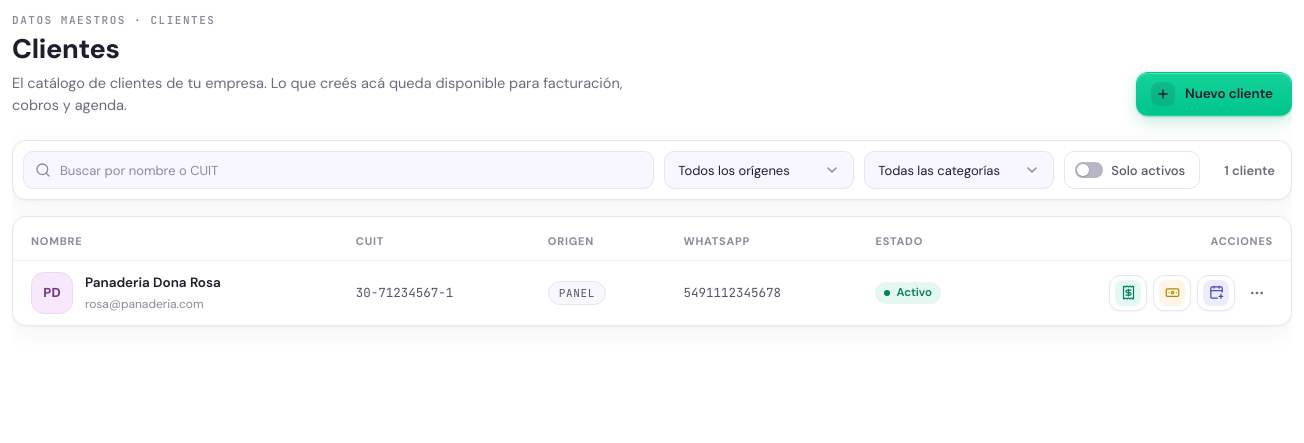
Test: ListadoDeClientes › el menú ⋯ se cierra al hacer clic afuera
Click the button named "Más acciones para". click: (1257, 293)
box: left=1241, top=277, right=1273, bottom=309
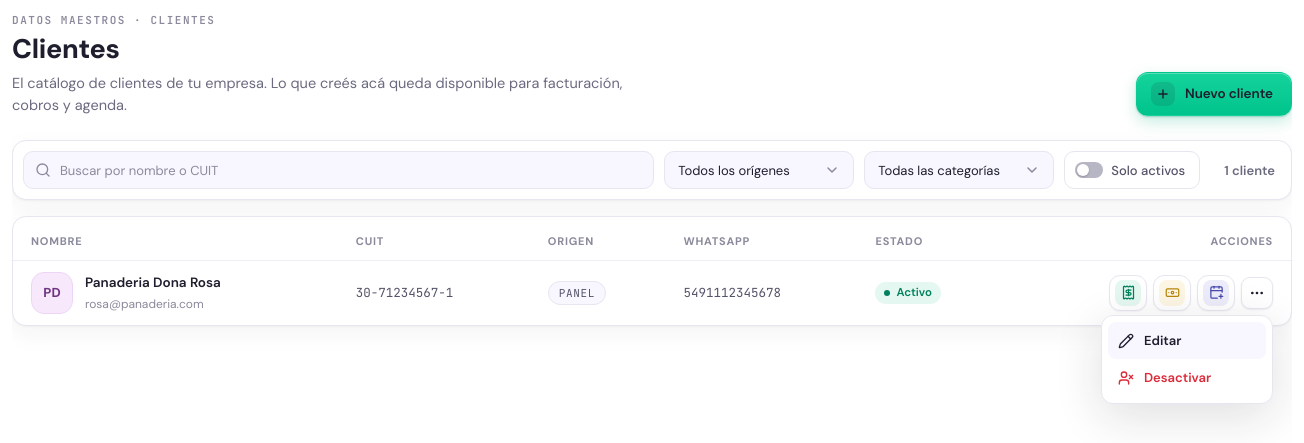
Check: the menu is shown, box left=1101, top=315, right=1273, bottom=404
Press the mouse on the element that starts with "Datos maestros · Clientes" at (652, 169), box left=12, top=12, right=1292, bottom=326
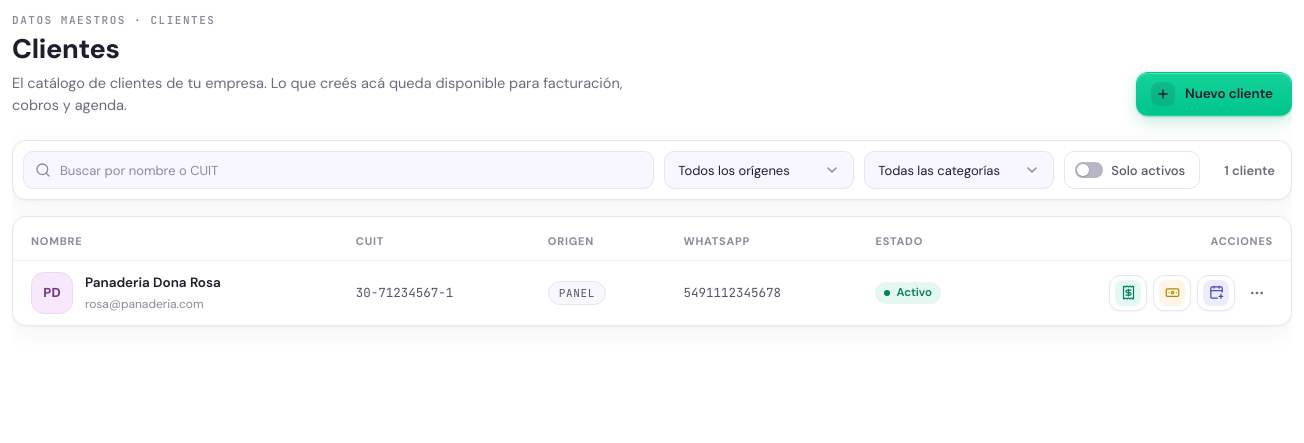
Check: the menu is gone
